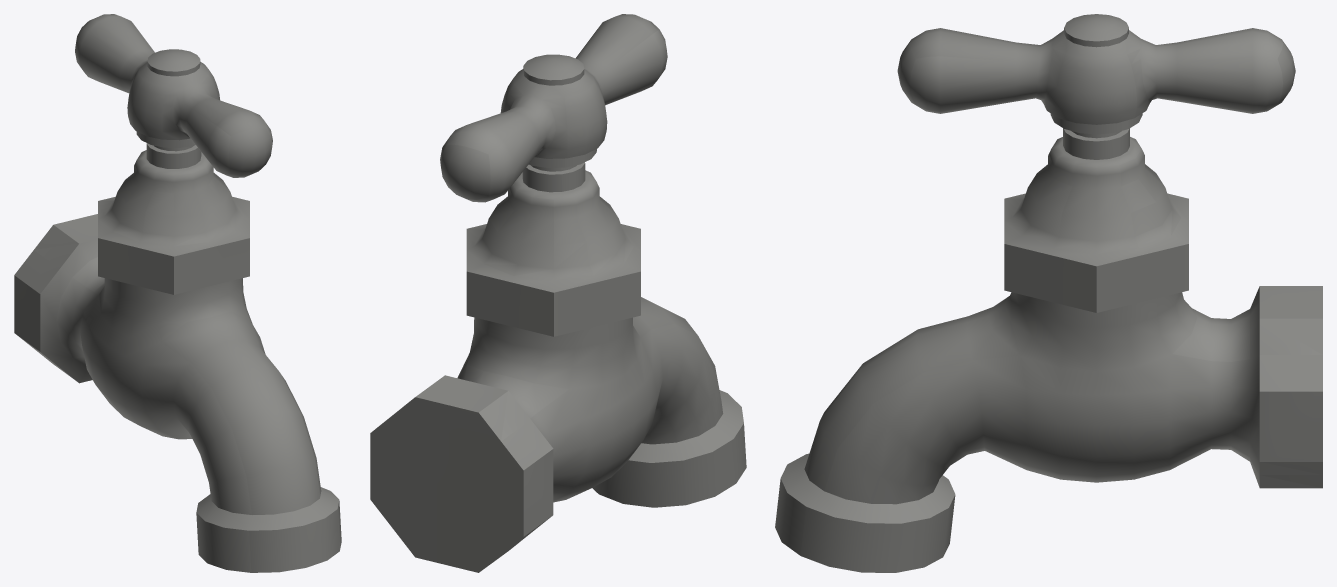
File: faucet.glb
3 views of the same model, side by side, from view 1: azimuth 30°, elevation 25°; view 2: azimuth 150°, elevation 25°; view 3: azimuth 270°, elevation 25° (orthographic). The views are drawn at different scales.
Visible parts, largest first — view 1: faucet; view 2: faucet; view 3: faucet.
Part boxes in pixels (x1,y1,x2,y2): faucet: (14,14,341,572); faucet: (370,14,746,572); faucet: (775,14,1322,572).
Bounding box in the file's own units: 0.0534 × 0.1446 × 0.137.
1 material, 1 textured.
